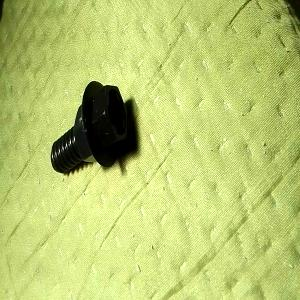parafuso: (51, 81, 128, 175)
